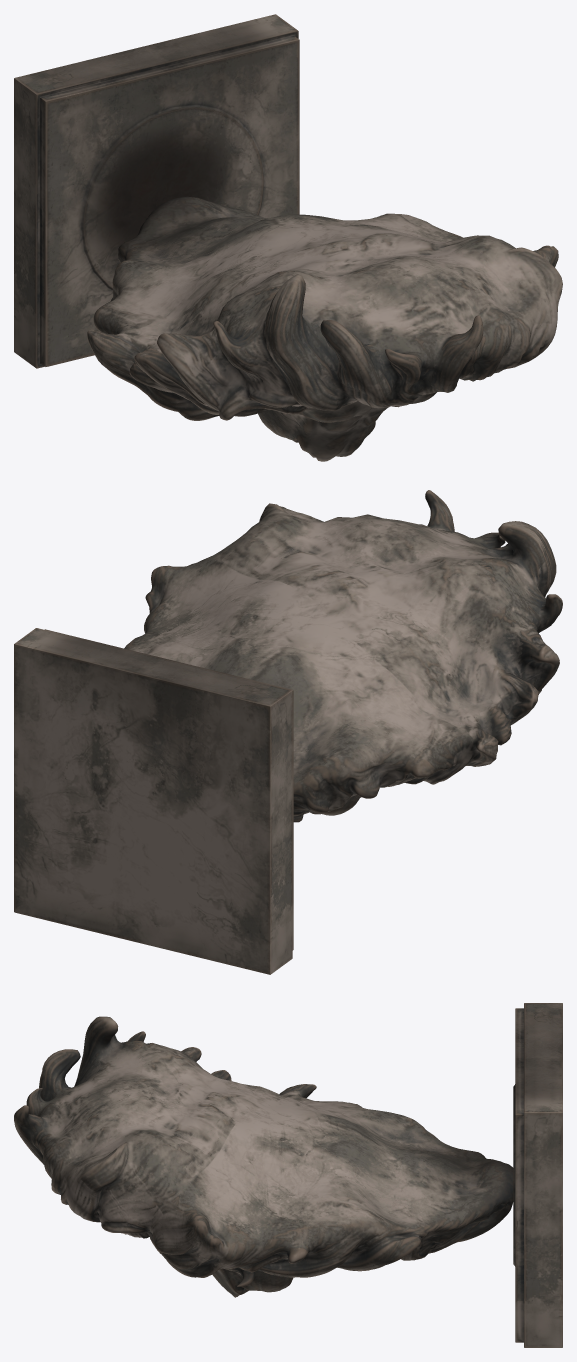
Rendered from LionFountain.obj.
3 views of the same model, one above another, from view 1: azimuth 30°, elevation 25°; view 2: azimuth 150°, elevation 25°; view 3: azimuth 270°, elevation 25° (orthographic). The views are drawn at different scales.
Parts seen in each view (by area): view 1: LionFountain; view 2: LionFountain; view 3: LionFountain.
Boxes of the visible parts, <box> form: LionFountain: <box>14,14,562,461</box>; LionFountain: <box>14,490,562,974</box>; LionFountain: <box>14,1003,562,1347</box>.
Size of the model in its own units: 0.8674 by 0.5586 by 1.18.
Materials: 1 (1 with a texture image).
